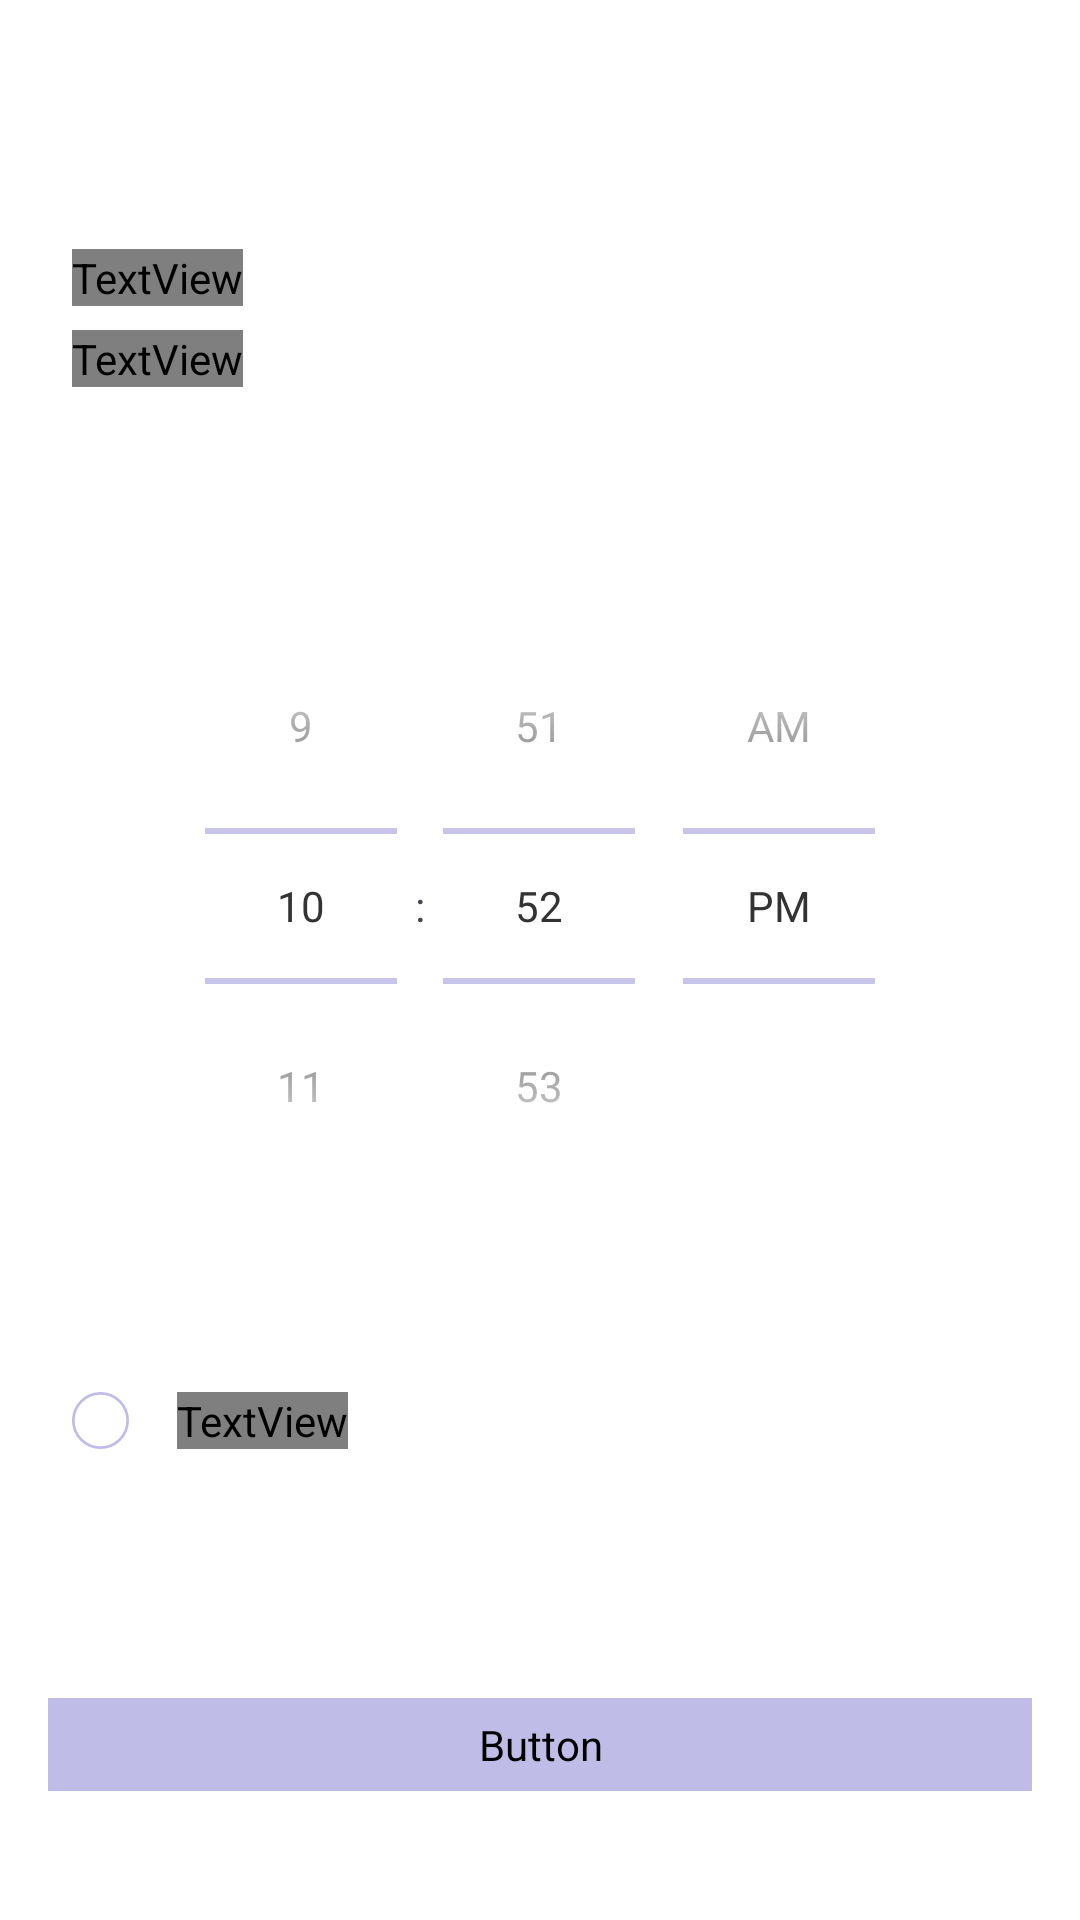

Point at icon controls on the screen. Image size 1080w x 1920h, points as [x,y].
unchecked checkbox: [100,1420]
